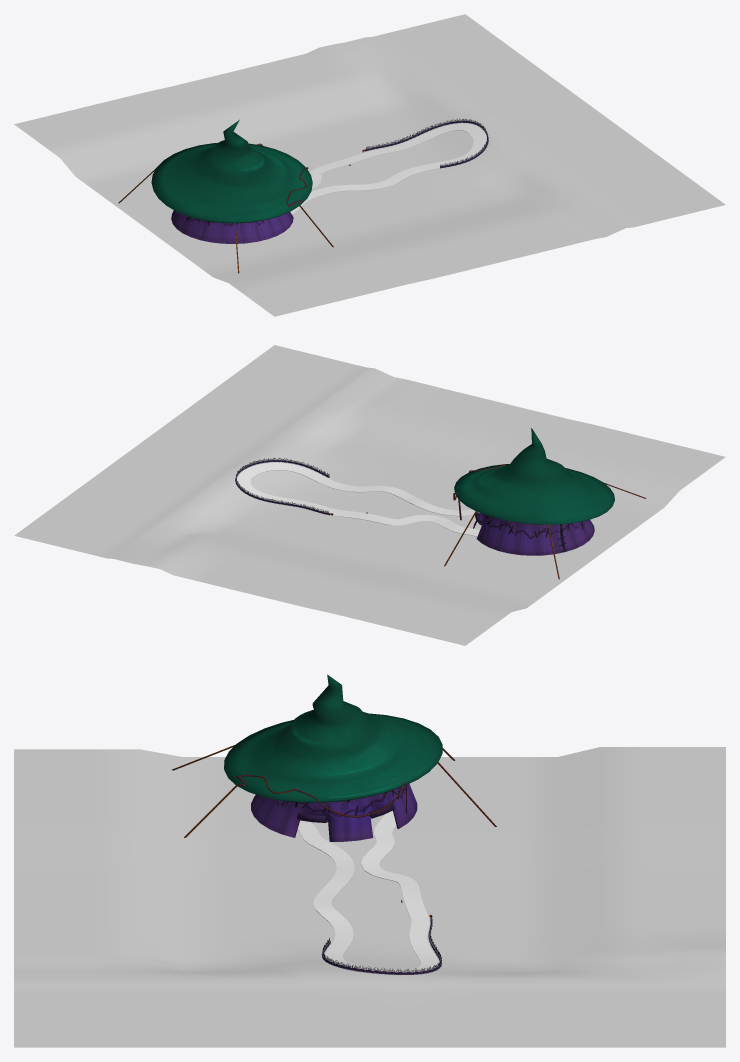
The model's file is track layout carnival (2).fbx.
The picture shows the model from 3 angles, top to bottom: view 1: azimuth 30°, elevation 25°; view 2: azimuth 150°, elevation 25°; view 3: azimuth 270°, elevation 25°; orthographic projection. The views are drawn at different scales.
Visible parts, largest first — view 1: Plane, Circle.001, Cube, Wall; view 2: Plane, Circle.001, Cube, Wall; view 3: Plane, Circle.001, Cube, Wall.
Boxes of the visible parts, x1,y1,x2,y2 form: Plane: [14, 14, 725, 316]; Circle.001: [118, 119, 333, 273]; Cube: [290, 123, 486, 214]; Wall: [364, 118, 488, 168]; Plane: [14, 345, 725, 645]; Circle.001: [444, 428, 646, 579]; Cube: [237, 463, 479, 536]; Wall: [235, 458, 330, 515]; Plane: [14, 747, 725, 1047]; Circle.001: [172, 674, 496, 841]; Cube: [297, 810, 438, 975]; Wall: [321, 915, 441, 974].
Size of the model in its own units: 602 by 130 by 602.
